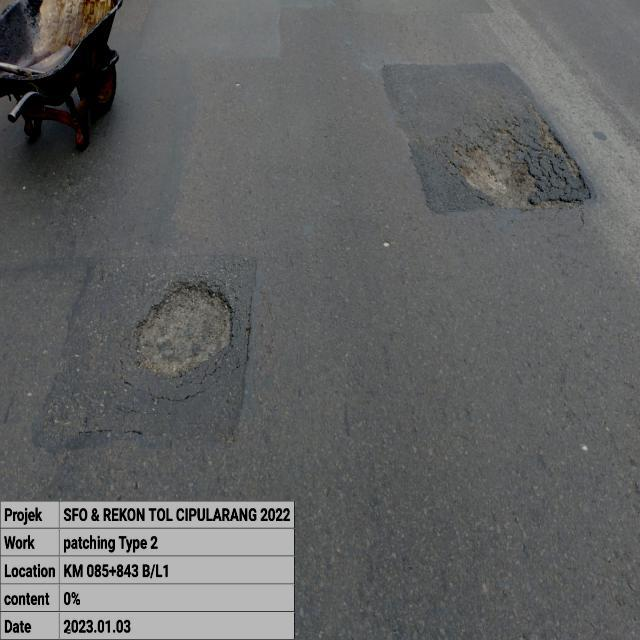Buraco: (446, 100, 595, 215), (129, 277, 241, 383)
